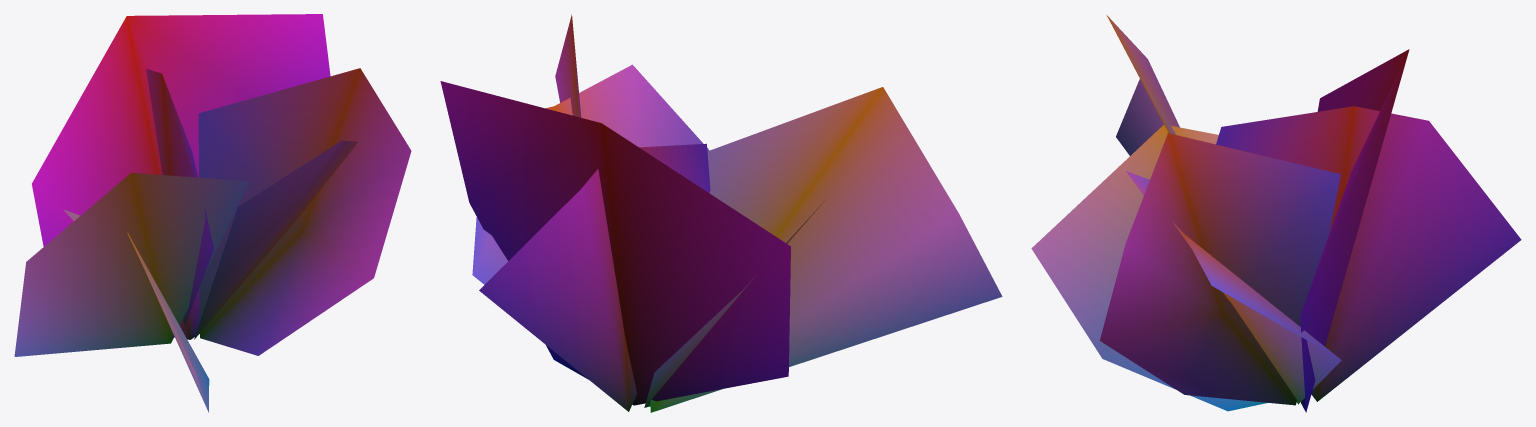
File: misc_groundshrubs_01_a.dae
3 renders of one model, left to right at view 1: azimuth 30°, elevation 25°; view 2: azimuth 150°, elevation 25°; view 3: azimuth 270°, elevation 25°, orthographic. The views are drawn at different scales.
Parts seen in each view (by area): view 1: shrubsa; view 2: shrubsa; view 3: shrubsa.
Boxes of the visible parts, x1,y1,x2,y2 form: shrubsa: [14, 14, 411, 412]; shrubsa: [440, 14, 1002, 412]; shrubsa: [1031, 15, 1521, 412].
Bounding box in the file's own units: 1.32 × 1.11 × 0.9005.
